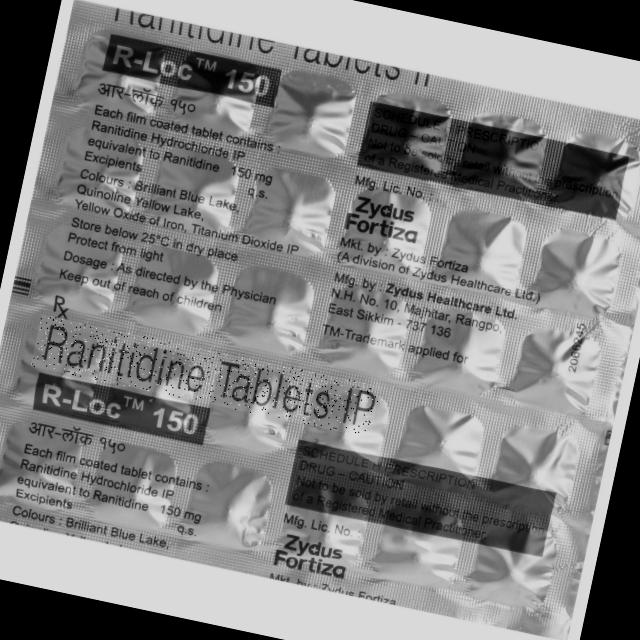Medicine-name: (32, 315, 382, 439)
